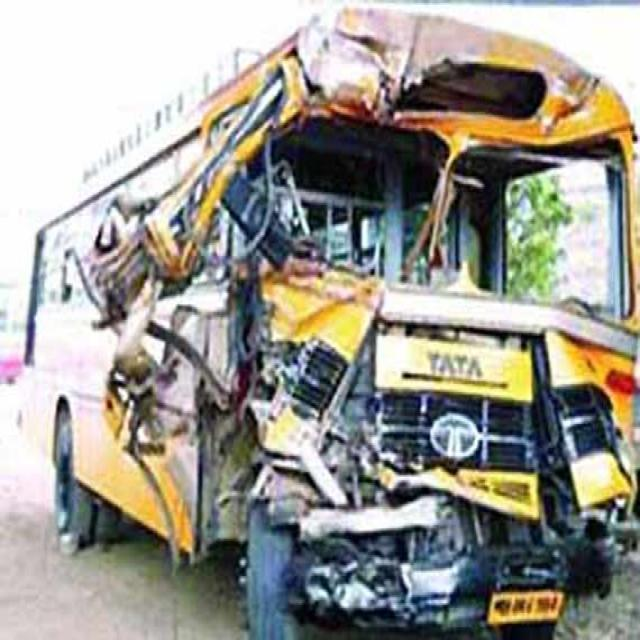accident: (22, 9, 640, 637)
